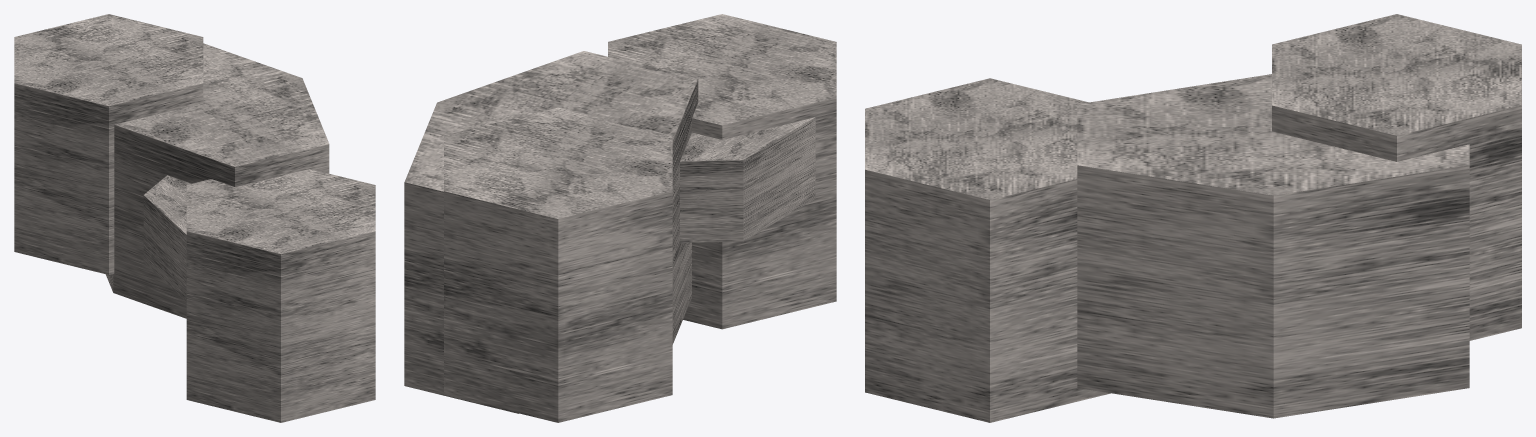
File: Stairs.fbx
3 views of the same model, side by side, from view 1: azimuth 30°, elevation 25°; view 2: azimuth 150°, elevation 25°; view 3: azimuth 270°, elevation 25° (orthographic). The views are drawn at different scales.
Parts seen in each view (by area): view 1: pCylinder3, pCylinder1, pCylinder2, pCylinder4; view 2: pCylinder1, pCylinder3, pCylinder2, pCylinder4; view 3: pCylinder2, pCylinder3, pCylinder1.
Boxes of the visible parts, bbox=[...] form: pCylinder3: bbox=[186, 169, 375, 422]; pCylinder1: bbox=[14, 14, 203, 274]; pCylinder2: bbox=[106, 43, 329, 318]; pCylinder4: bbox=[143, 175, 191, 301]; pCylinder1: bbox=[444, 107, 672, 422]; pCylinder3: bbox=[608, 14, 836, 329]; pCylinder2: bbox=[404, 51, 698, 413]; pCylinder4: bbox=[680, 117, 815, 242]; pCylinder2: bbox=[1077, 74, 1469, 418]; pCylinder3: bbox=[865, 78, 1110, 422]; pCylinder1: bbox=[1272, 14, 1521, 340].
Bounding box in the file's own units: 1132 × 933 × 2018.
4 materials, 4 textured.
